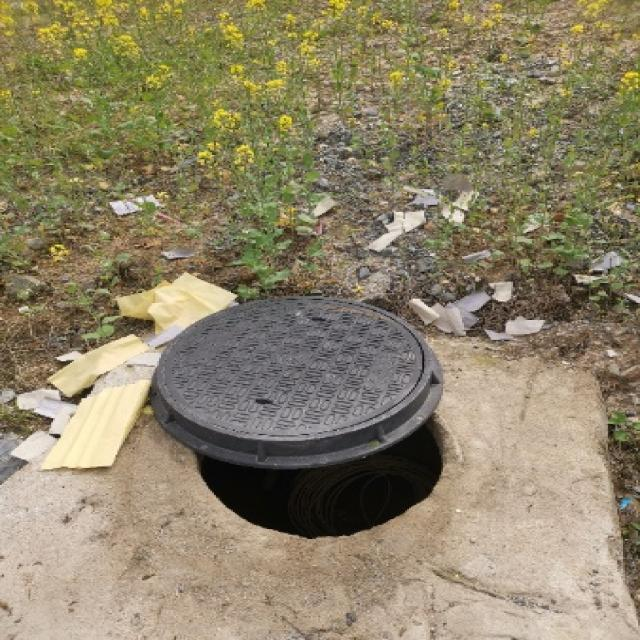Faulty: (139, 286, 477, 573)
